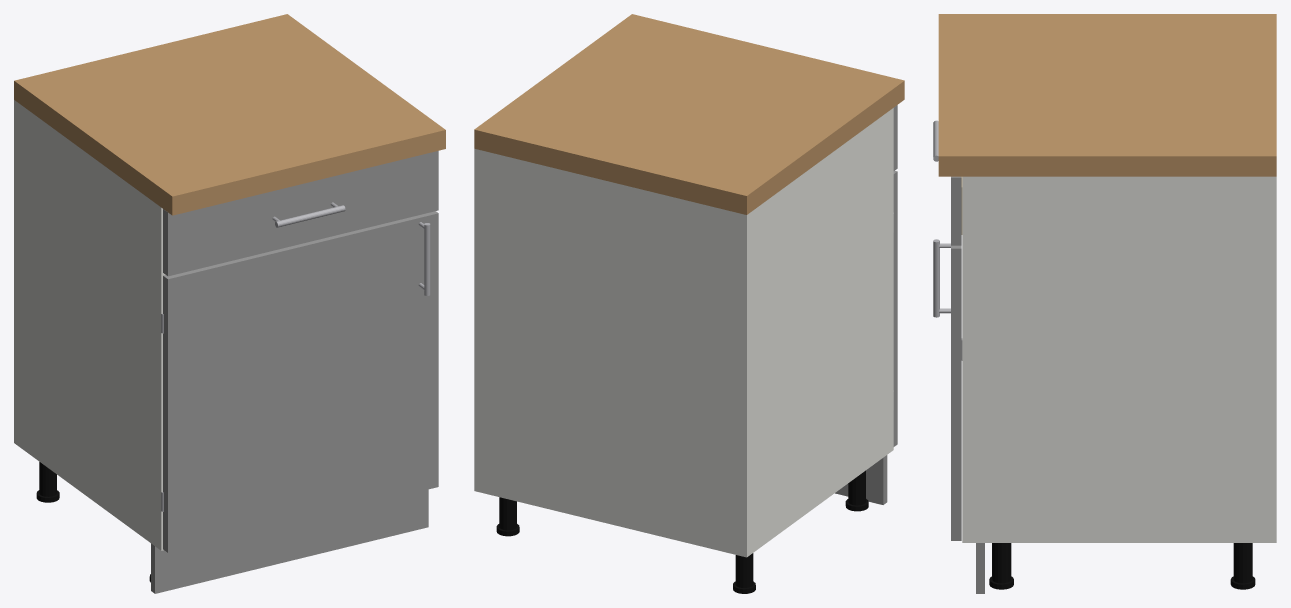
The model's file is 024_kitchen_base_cabinet_60_cm.glb.
3 views of the same model, side by side, from view 1: azimuth 30°, elevation 25°; view 2: azimuth 150°, elevation 25°; view 3: azimuth 270°, elevation 25° (orthographic). The views are drawn at different scales.
Visible parts, largest first — view 1: 024_door_panel, 009_carcass_side_l, 031_worktop, 015_drawer_front, 008_plinth_board, 032_worktop_front_edge; view 2: 012_carcass_back_panel, 009_carcass_side_l, 031_worktop, 010_carcass_side_r, 024_door_panel, 008_plinth_board, 000_adjustable_leg, 004_adjustable_leg; view 3: 010_carcass_side_r, 031_worktop, 024_door_panel, 006_adjustable_leg, 004_adjustable_leg, 015_drawer_front, 029_door_pull_bar, 008_plinth_board.
Boxes of the visible parts, <box> form: 024_door_panel: <box>163,211,438,552</box>; 009_carcass_side_l: <box>14,100,165,550</box>; 031_worktop: <box>14,14,444,214</box>; 015_drawer_front: <box>163,151,438,276</box>; 008_plinth_board: <box>151,489,428,593</box>; 032_worktop_front_edge: <box>172,129,445,215</box>; 012_carcass_back_panel: <box>482,150,738,555</box>; 009_carcass_side_l: <box>738,108,893,557</box>; 031_worktop: <box>474,14,904,214</box>; 010_carcass_side_r: <box>474,148,482,492</box>; 024_door_panel: <box>893,171,897,446</box>; 008_plinth_board: <box>835,455,887,504</box>; 000_adjustable_leg: <box>735,553,753,587</box>; 004_adjustable_leg: <box>499,497,516,530</box>; 010_carcass_side_r: <box>962,176,1276,542</box>; 031_worktop: <box>940,14,1276,176</box>; 024_door_panel: <box>951,245,961,540</box>; 006_adjustable_leg: <box>992,543,1011,583</box>; 004_adjustable_leg: <box>1233,543,1252,583</box>; 015_drawer_front: <box>951,176,961,245</box>; 029_door_pull_bar: <box>933,239,939,317</box>; 008_plinth_board: <box>976,543,984,593</box>.
Size of the model in its own units: 0.6 by 0.86 by 0.612.
